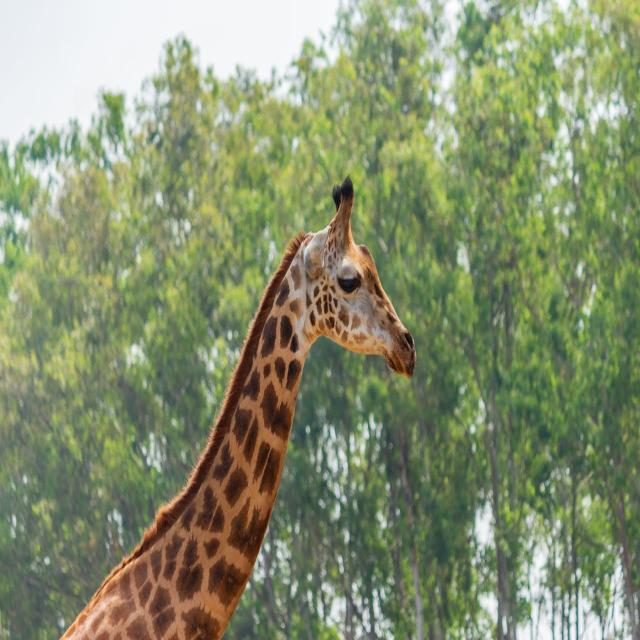Giraffe: (58, 165, 418, 640)
